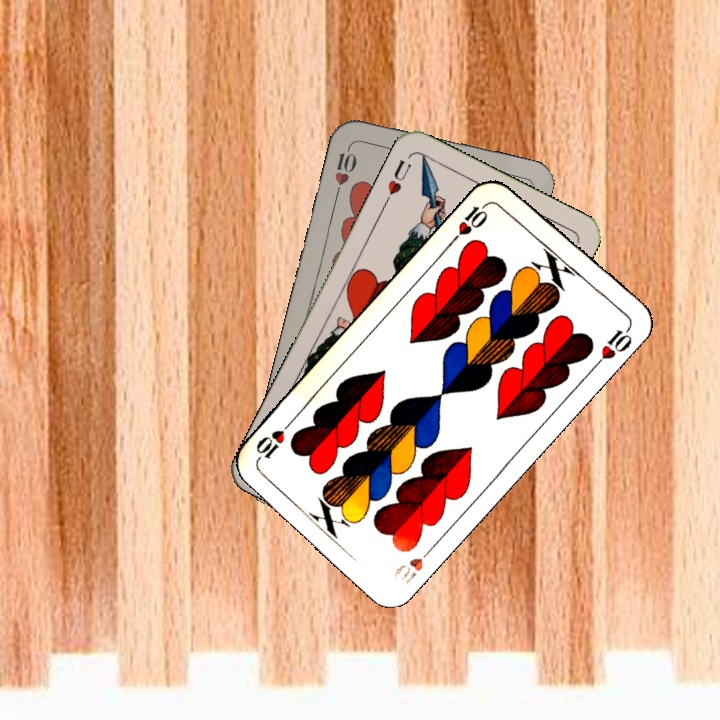H10: (390, 540, 438, 587), (447, 198, 492, 245), (330, 140, 360, 198)
HU: (380, 155, 414, 208)
